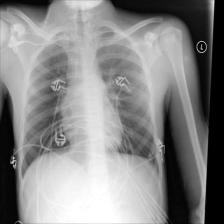normal: (16, 27, 163, 188)
